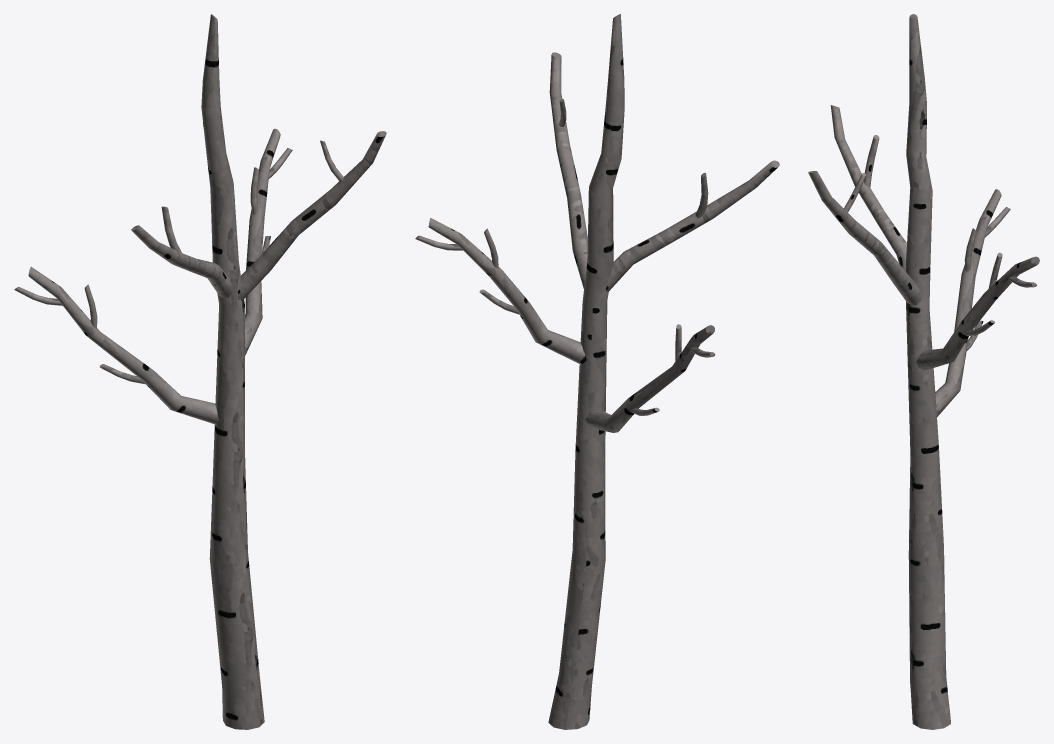
Rendered from deadbirch_10.glb.
The picture shows the model from 3 angles, left to right: view 1: azimuth 30°, elevation 25°; view 2: azimuth 150°, elevation 25°; view 3: azimuth 270°, elevation 25°; orthographic projection. The views are drawn at different scales.
Parts seen in each view (by area): view 1: DeadBirch_10; view 2: DeadBirch_10; view 3: DeadBirch_10.
Part boxes in pixels (x1,y1,x2,y2): DeadBirch_10: (14,14,386,729); DeadBirch_10: (415,14,779,729); DeadBirch_10: (808,14,1039,729).
Size of the model in its own units: 4.25 by 10.08 by 3.08.
1 material, 1 textured.
